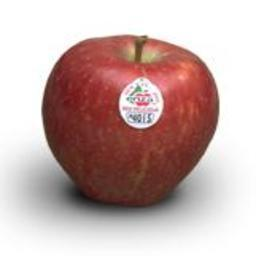apple: (39, 34, 219, 205)
